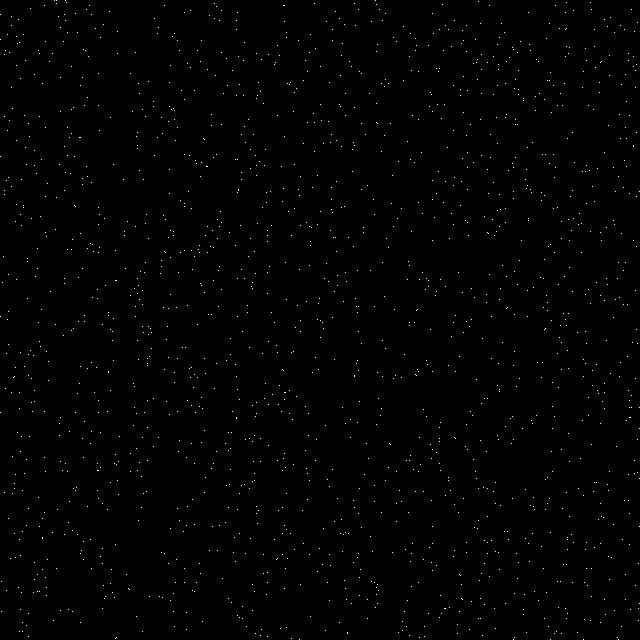Circle: (12, 10, 630, 632)
